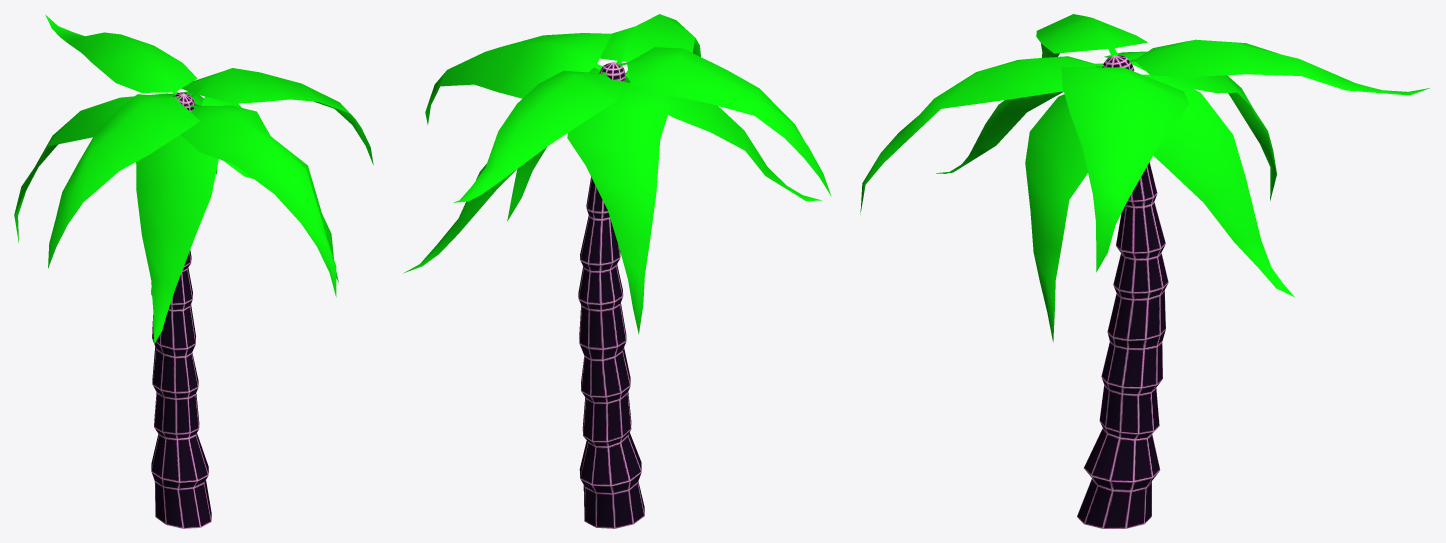
File: palmtree.fbx
The picture shows the model from 3 angles, left to right: view 1: azimuth 30°, elevation 25°; view 2: azimuth 150°, elevation 25°; view 3: azimuth 270°, elevation 25°; orthographic projection. The views are drawn at different scales.
Visible parts, largest first — view 1: tronc, Feuille_5, Feuille_2, Feuille_1, Feuille_8, Feuille_6, Feuille_4, Feuille_7; view 2: tronc, Feuille_4, Feuille_8, Feuille_1, Feuille_6, Feuille_2, Feuille_5, Feuille_3, Feuille_7; view 3: tronc, Feuille_6, Feuille_3, Feuille_7, Feuille_8, Feuille_2, Feuille_1, Feuille_4, Feuille_5.
Boxes of the visible parts, <box> form: tronc: <box>151,92,211,528</box>; Feuille_5: <box>136,134,218,343</box>; Feuille_2: <box>180,105,336,296</box>; Feuille_1: <box>48,94,199,268</box>; Feuille_8: <box>45,14,197,94</box>; Feuille_6: <box>181,68,373,164</box>; Feuille_4: <box>14,93,168,242</box>; Feuille_7: <box>201,96,338,282</box>; tronc: <box>578,62,644,528</box>; Feuille_4: <box>567,79,670,334</box>; Feuille_8: <box>454,70,621,202</box>; Feuille_1: <box>617,47,831,196</box>; Feuille_6: <box>425,33,612,124</box>; Feuille_2: <box>600,14,700,63</box>; Feuille_5: <box>625,70,821,200</box>; Feuille_3: <box>403,163,516,273</box>; Feuille_7: <box>507,67,630,221</box>; tronc: <box>1077,55,1168,528</box>; Feuille_6: <box>1061,67,1188,272</box>; Feuille_3: <box>1142,74,1294,297</box>; Feuille_7: <box>1025,94,1087,342</box>; Feuille_8: <box>1129,39,1429,95</box>; Feuille_2: <box>860,56,1103,214</box>; Feuille_1: <box>1036,14,1147,57</box>; Feuille_4: <box>1104,51,1276,200</box>; Feuille_5: <box>936,63,1102,173</box>.
Bounding box in the file's own units: 1171 × 1387 × 1506.
